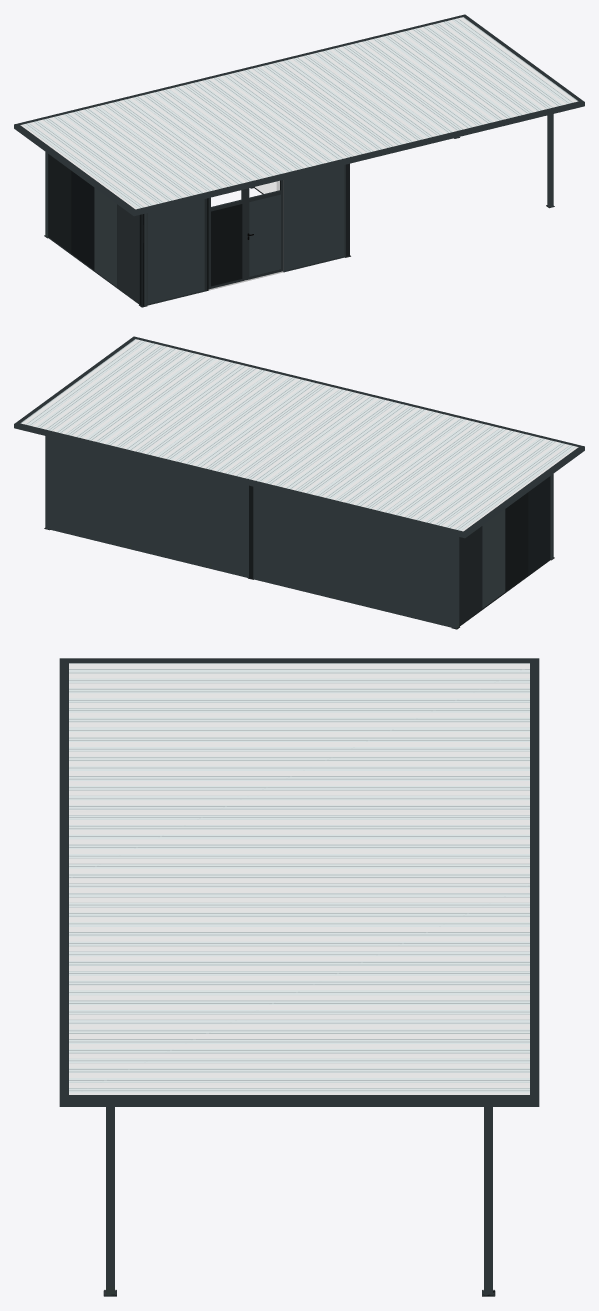
3 renders of one model, top to bottom at view 1: azimuth 30°, elevation 25°; view 2: azimuth 150°, elevation 25°; view 3: azimuth 270°, elevation 25°, orthographic. The views are drawn at different scales.
Parts seen in each view (by area): view 1: priximbattable_net_abris_de_jardin_640009_pool_house_azalee_, folha, folha_2, porta_avec_hublot; view 2: priximbattable_net_abris_de_jardin_640009_pool_house_azalee_; view 3: priximbattable_net_abris_de_jardin_640009_pool_house_azalee_.
Boxes of the visible parts, <box> form: priximbattable_net_abris_de_jardin_640009_pool_house_azalee_: <box>14,14,584,307</box>; folha: <box>208,189,247,289</box>; folha_2: <box>247,180,282,279</box>; porta_avec_hublot: <box>204,179,287,291</box>; priximbattable_net_abris_de_jardin_640009_pool_house_azalee_: <box>14,336,584,629</box>; priximbattable_net_abris_de_jardin_640009_pool_house_azalee_: <box>59,658,539,1296</box>.
Size of the model in its own units: 1130 by 259 by 520.
Materials: 1 (1 with a texture image).
